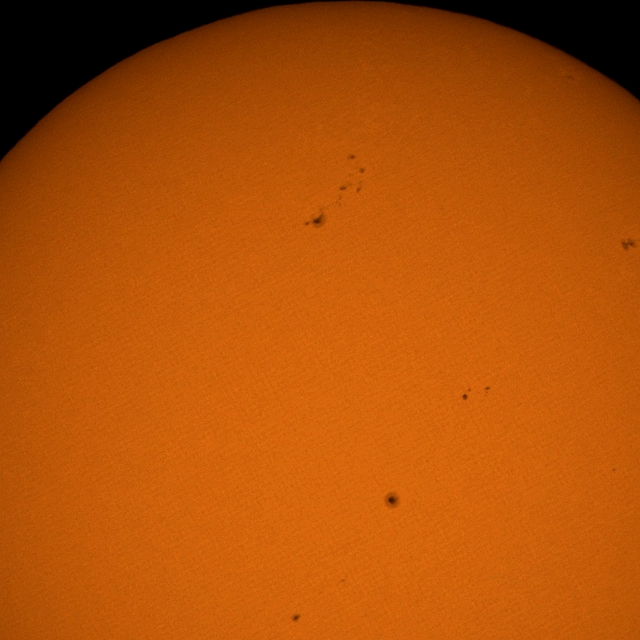sunspot: (304, 208, 326, 229), (345, 154, 365, 176), (618, 235, 638, 253), (384, 490, 400, 510), (290, 612, 301, 624), (461, 388, 470, 402), (484, 385, 491, 394)
